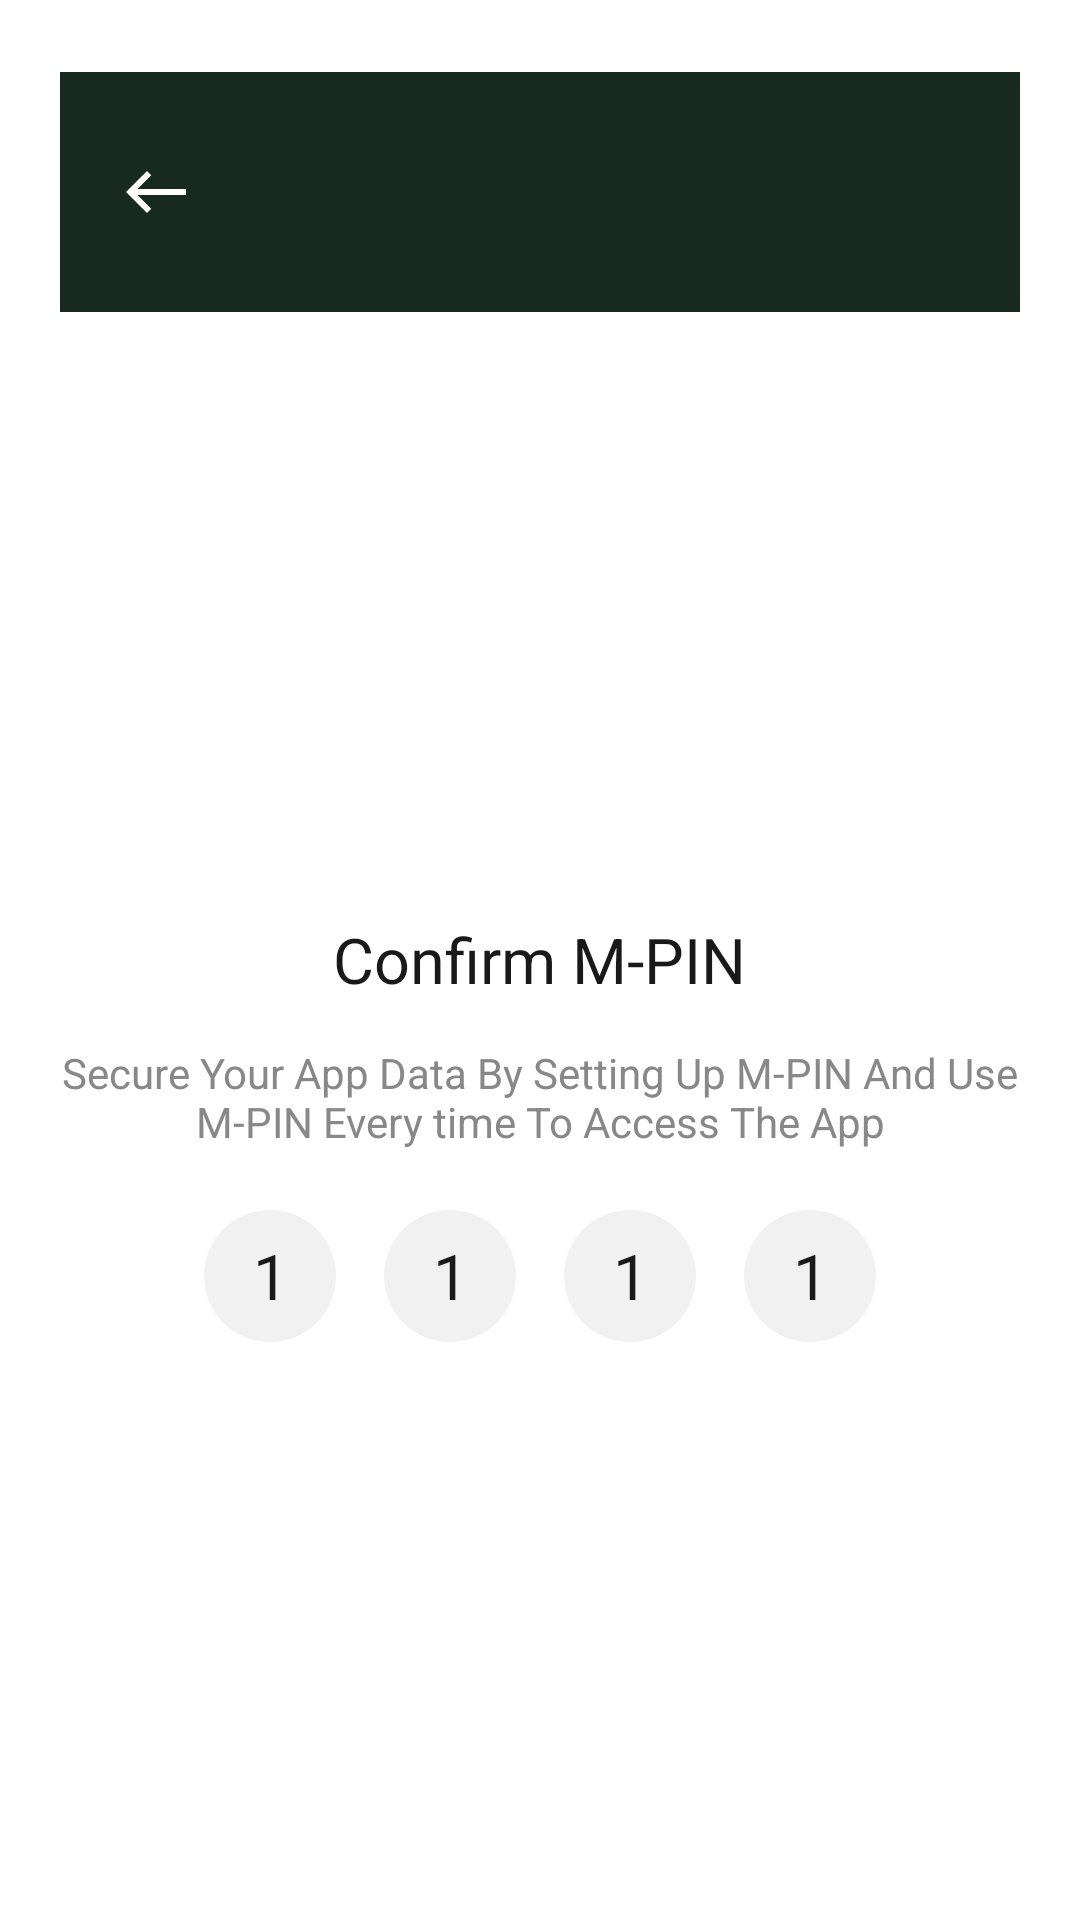

Icons on this 1080 × 1920 Android screen, each with the point to tap as [x,y]:
arrow back: [156,192]
